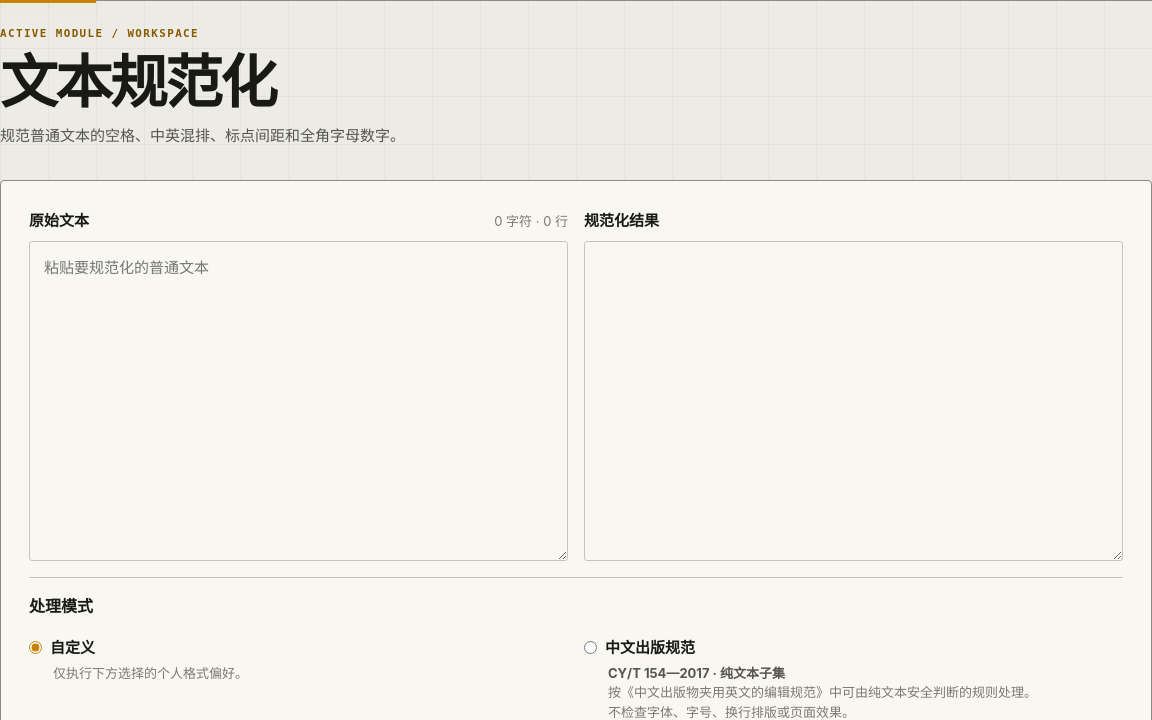
TextNormalizerView › invalidates a current result when the mode changes without changing personal options
This screenshot has width=1152, height=720.
Type "这是测试,继续." into the text box with id "normalizer-source-text".
click(298, 401); type("这是测试,继续.")  # box 29,241 -> 568,561
(page scrolled)
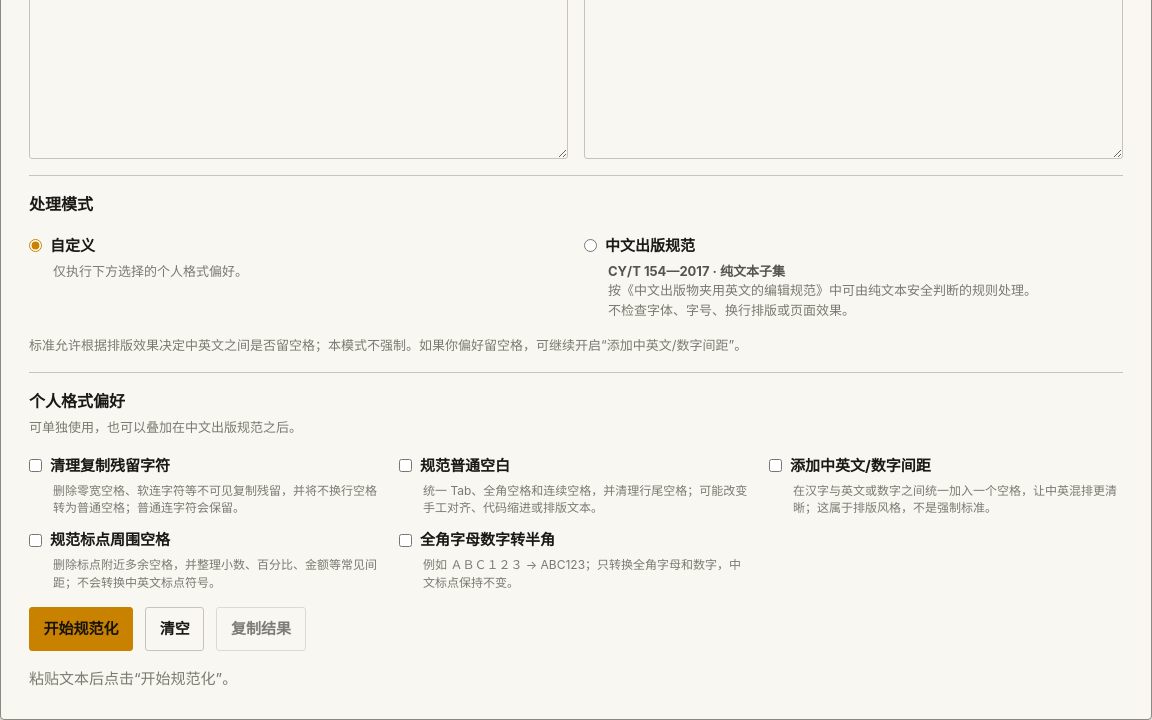
Click the checkbox labelled "清理复制残留字符".
click(36, 466)  # box 29,459 -> 42,472
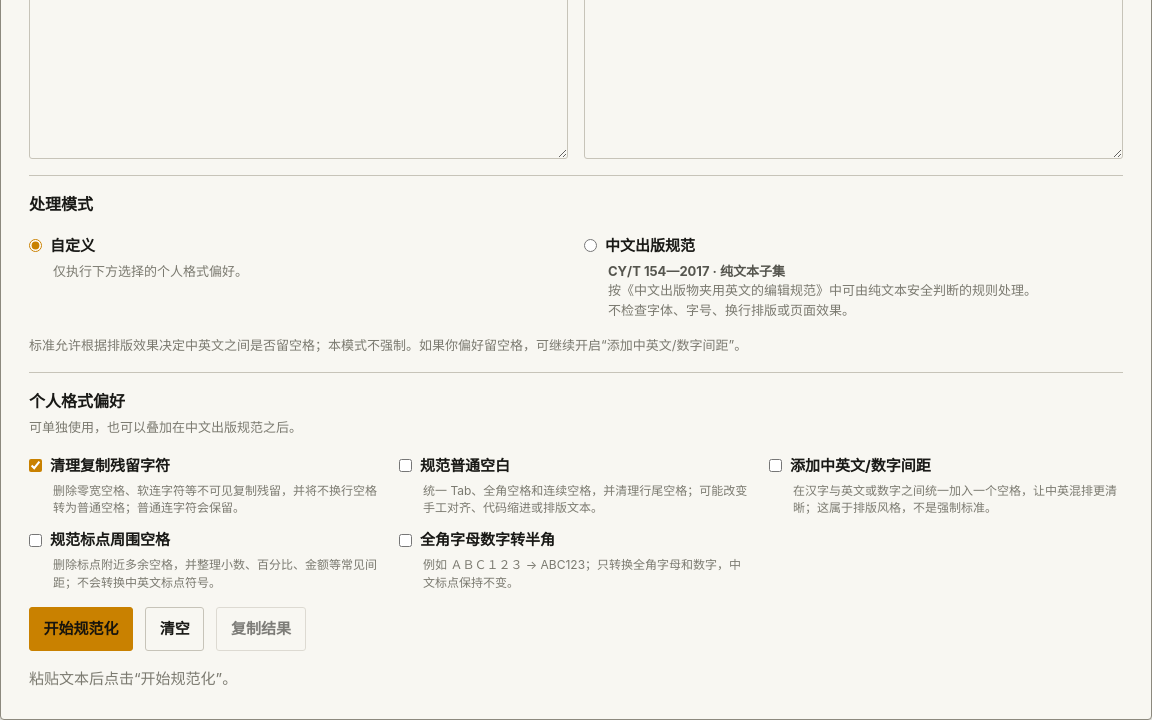
Click the button "开始规范化".
click(81, 629)  # box 29,607 -> 133,651
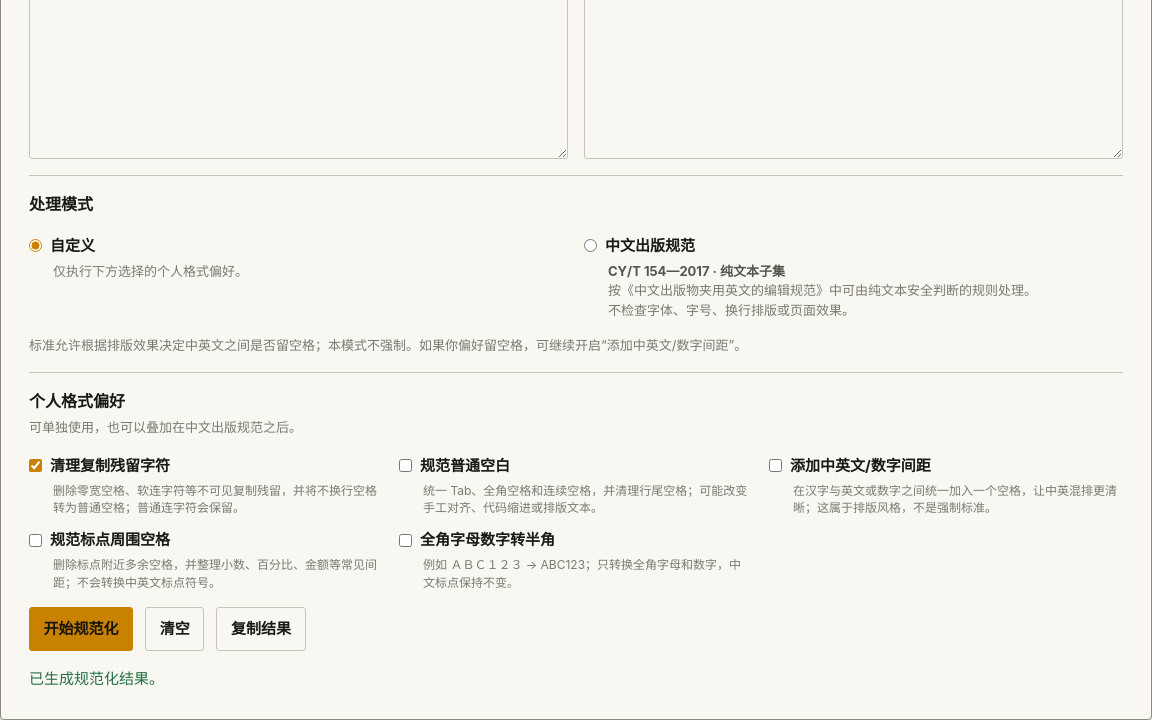
Click the 2nd radio button.
click(590, 246)  # box 584,239 -> 597,252
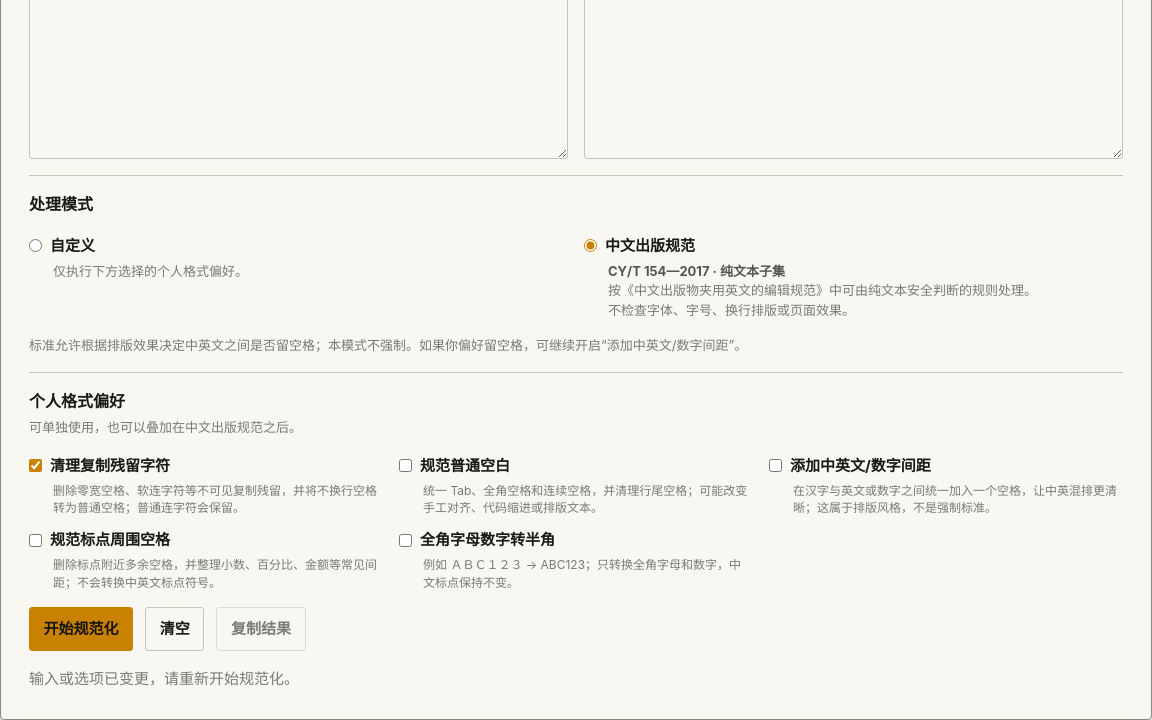
Expected: the checkbox labelled "清理复制残留字符" is checked, 29,459 -> 42,472
Expected: the text "输入或选项已变更，请重新开始规范化。" is shown, 29,669 -> 299,688
